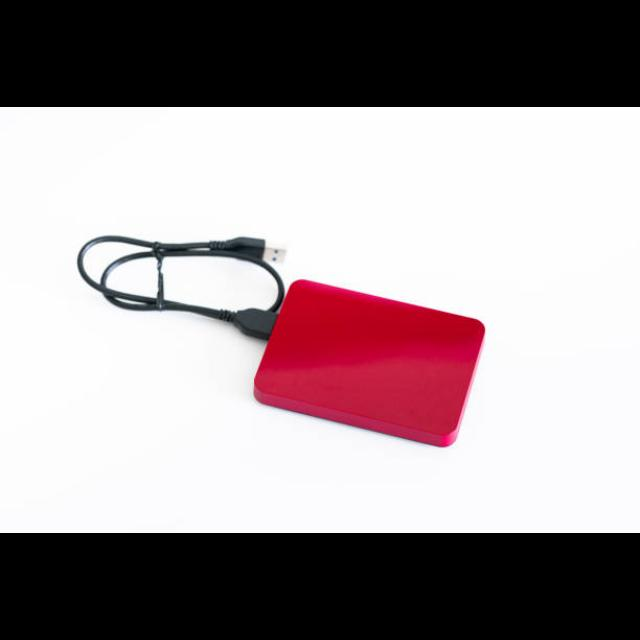HDD: (252, 280, 486, 448)
